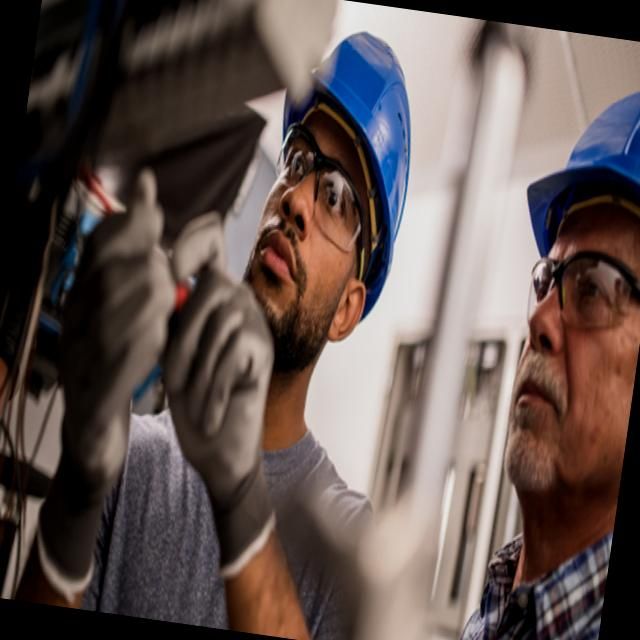goggles: (492, 239, 637, 359), (266, 122, 379, 254)
helmet: (256, 18, 439, 306), (527, 64, 640, 253)
no-vest: (83, 375, 369, 640), (443, 495, 614, 640)
